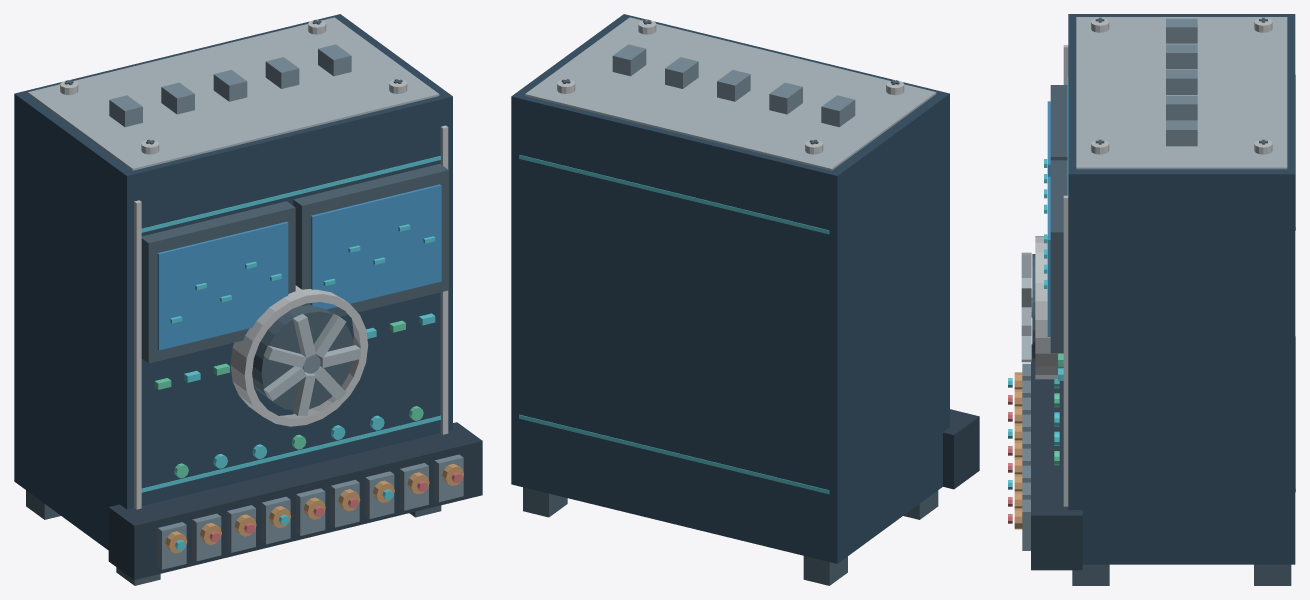
File: 34_L76_ElectrolyteThermalConditioner.glb
3 renders of one model, left to right at view 1: azimuth 30°, elevation 25°; view 2: azimuth 150°, elevation 25°; view 3: azimuth 270°, elevation 25°, orthographic.
Visible parts, largest first — view 1: ElectrolyteThermalConditioner_Node_0000, ElectrolyteThermalConditioner_Node_0007, ElectrolyteThermalConditioner_Node_0049, ElectrolyteThermalConditioner_Node_0032, ElectrolyteThermalConditioner_Node_0025, ElectrolyteThermalConditioner_Node_0024, ElectrolyteThermalConditioner_Node_0031, ElectrolyteThermalConditioner_Node_0093, ElectrolyteThermalConditioner_Node_0092, ElectrolyteThermalConditioner_Node_0005, ElectrolyteThermalConditioner_Node_0006, ElectrolyteThermalConditioner_Node_0021 (+20 smaller); view 2: ElectrolyteThermalConditioner_Node_0000, ElectrolyteThermalConditioner_Node_0007, ElectrolyteThermalConditioner_Node_0049, ElectrolyteThermalConditioner_Node_0020, ElectrolyteThermalConditioner_Node_0022, ElectrolyteThermalConditioner_Node_0045, ElectrolyteThermalConditioner_Node_0047, ElectrolyteThermalConditioner_Node_0087, ElectrolyteThermalConditioner_Node_0091, ElectrolyteThermalConditioner_Node_0088, ElectrolyteThermalConditioner_Node_0089, ElectrolyteThermalConditioner_Node_0090; view 3: ElectrolyteThermalConditioner_Node_0000, ElectrolyteThermalConditioner_Node_0007, ElectrolyteThermalConditioner_Node_0049, ElectrolyteThermalConditioner_Node_0031, ElectrolyteThermalConditioner_Node_0093, ElectrolyteThermalConditioner_Node_0006, ElectrolyteThermalConditioner_Node_0024, ElectrolyteThermalConditioner_Node_0047, ElectrolyteThermalConditioner_Node_0087, ElectrolyteThermalConditioner_Node_0088, ElectrolyteThermalConditioner_Node_0090, ElectrolyteThermalConditioner_Node_0091 (+5 smaller).
Part boxes in pixels (x1,y1,x2,y2): ElectrolyteThermalConditioner_Node_0000: [14, 14, 452, 550]; ElectrolyteThermalConditioner_Node_0007: [28, 17, 439, 170]; ElectrolyteThermalConditioner_Node_0049: [108, 422, 482, 579]; ElectrolyteThermalConditioner_Node_0032: [311, 184, 441, 309]; ElectrolyteThermalConditioner_Node_0025: [157, 221, 288, 350]; ElectrolyteThermalConditioner_Node_0024: [141, 201, 295, 363]; ElectrolyteThermalConditioner_Node_0031: [293, 164, 448, 316]; ElectrolyteThermalConditioner_Node_0093: [230, 285, 368, 426]; ElectrolyteThermalConditioner_Node_0092: [252, 305, 353, 410]; ElectrolyteThermalConditioner_Node_0005: [134, 200, 141, 509]; ElectrolyteThermalConditioner_Node_0006: [440, 125, 448, 434]; ElectrolyteThermalConditioner_Node_0021: [141, 415, 440, 492]; ElectrolyteThermalConditioner_Node_0000: [511, 14, 949, 563]; ElectrolyteThermalConditioner_Node_0007: [525, 17, 936, 170]; ElectrolyteThermalConditioner_Node_0049: [943, 409, 979, 489]; ElectrolyteThermalConditioner_Node_0020: [519, 414, 829, 494]; ElectrolyteThermalConditioner_Node_0022: [519, 155, 829, 234]; ElectrolyteThermalConditioner_Node_0045: [803, 556, 847, 585]; ElectrolyteThermalConditioner_Node_0047: [523, 487, 567, 517]; ElectrolyteThermalConditioner_Node_0087: [821, 95, 855, 127]; ElectrolyteThermalConditioner_Node_0091: [612, 44, 646, 76]; ElectrolyteThermalConditioner_Node_0088: [769, 82, 802, 114]; ElectrolyteThermalConditioner_Node_0089: [717, 70, 750, 101]; ElectrolyteThermalConditioner_Node_0090: [665, 57, 698, 88]; ElectrolyteThermalConditioner_Node_0000: [1068, 14, 1295, 564]; ElectrolyteThermalConditioner_Node_0007: [1076, 17, 1287, 169]; ElectrolyteThermalConditioner_Node_0049: [1031, 344, 1082, 570]; ElectrolyteThermalConditioner_Node_0031: [1050, 160, 1067, 353]; ElectrolyteThermalConditioner_Node_0093: [1035, 236, 1063, 379]; ElectrolyteThermalConditioner_Node_0006: [1063, 195, 1068, 506]; ElectrolyteThermalConditioner_Node_0024: [1050, 85, 1067, 160]; ElectrolyteThermalConditioner_Node_0047: [1254, 564, 1291, 585]; ElectrolyteThermalConditioner_Node_0087: [1166, 18, 1197, 43]; ElectrolyteThermalConditioner_Node_0088: [1166, 44, 1197, 69]; ElectrolyteThermalConditioner_Node_0090: [1166, 95, 1197, 120]; ElectrolyteThermalConditioner_Node_0091: [1166, 121, 1197, 146].
Size of the model in its own units: 1.41 by 1.67 by 1.
